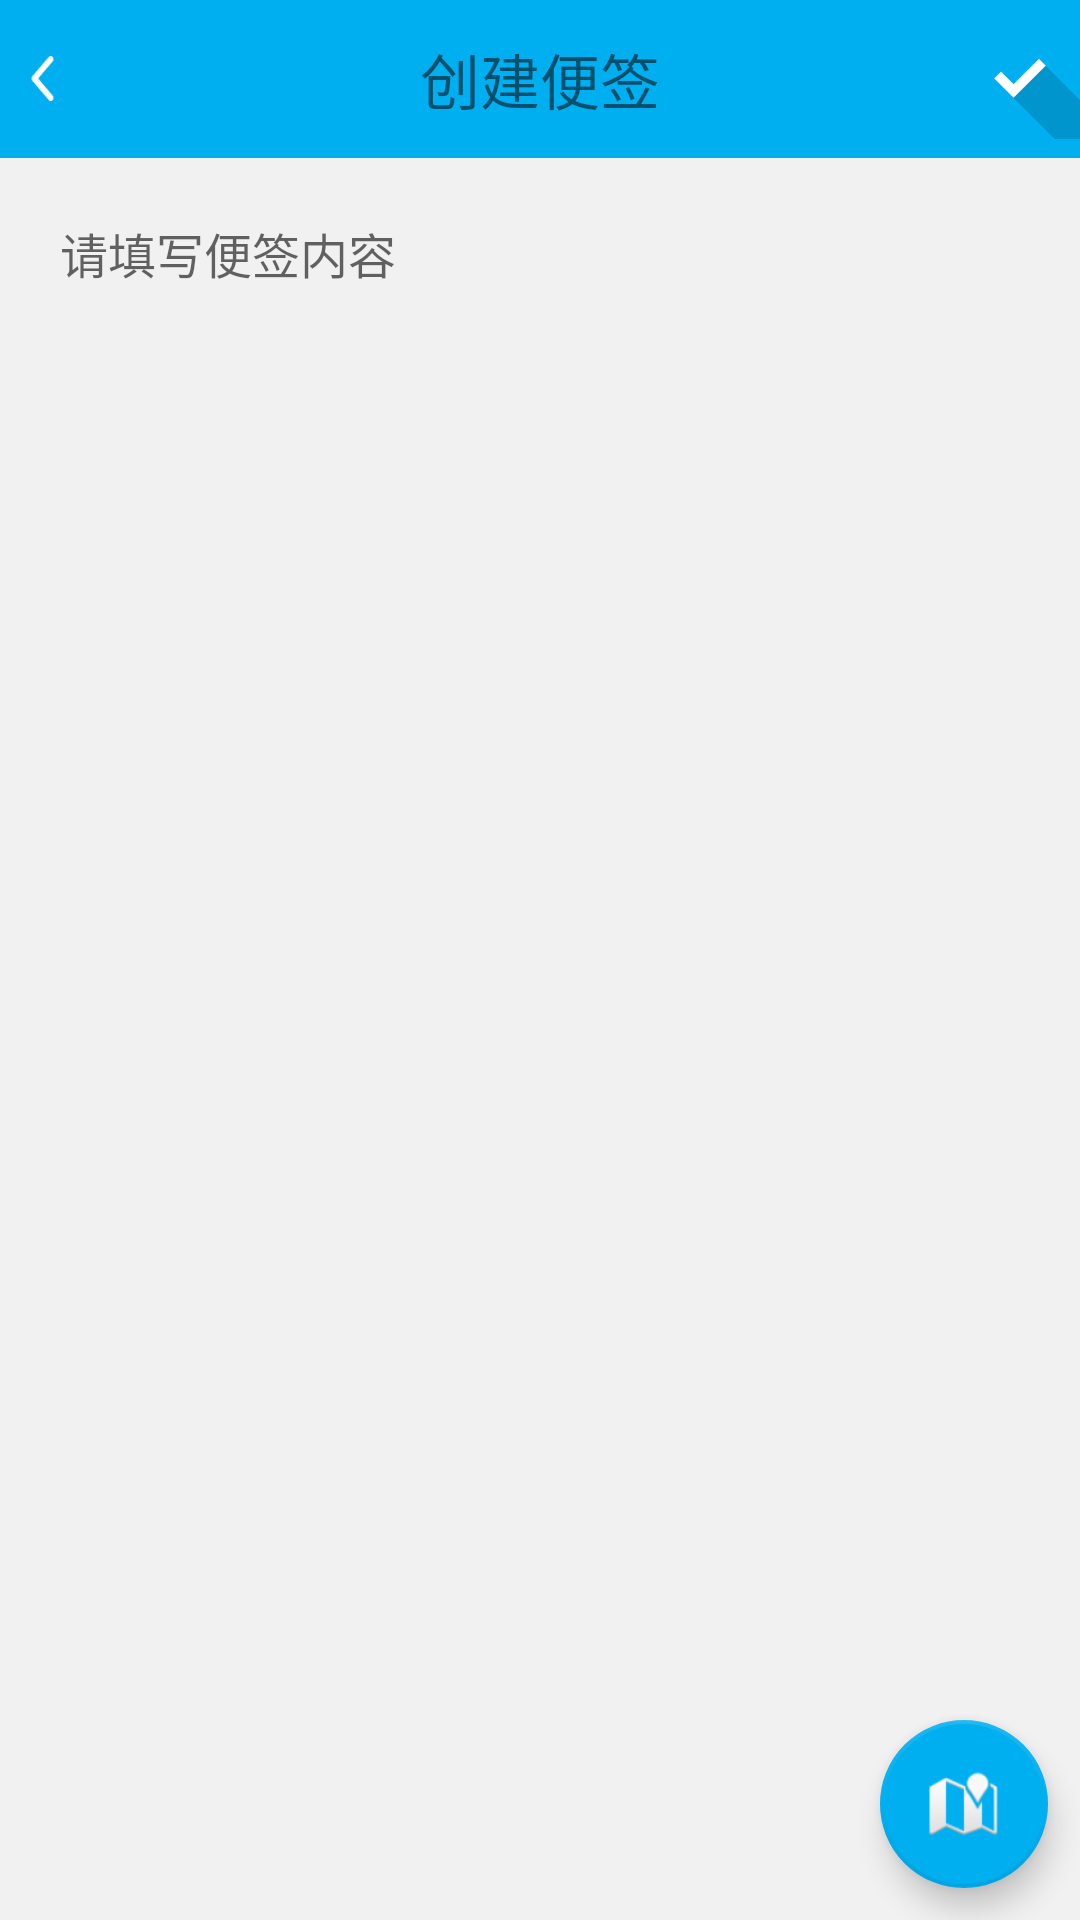

Point at icon controls on the screen. Image size 1080×1920, points as [x,y].
map: [964,1804]
note save: [1037,99]
return iv: [42,78]
